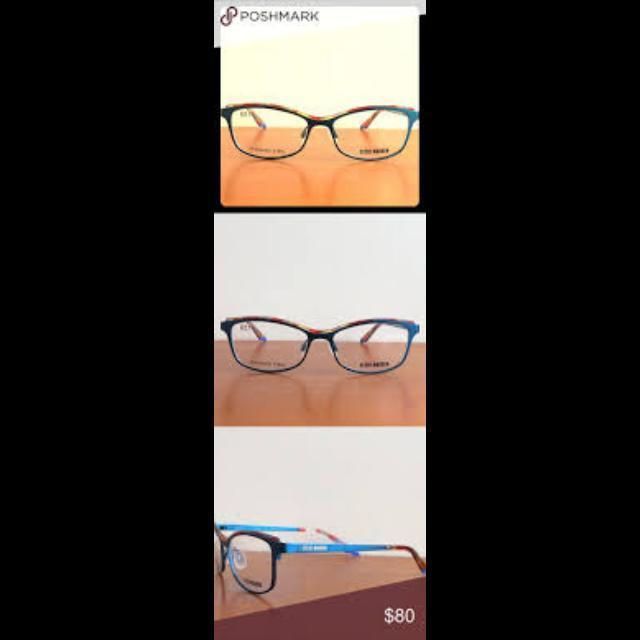glasses: (214, 518, 426, 594), (219, 96, 421, 164), (218, 314, 422, 376)
